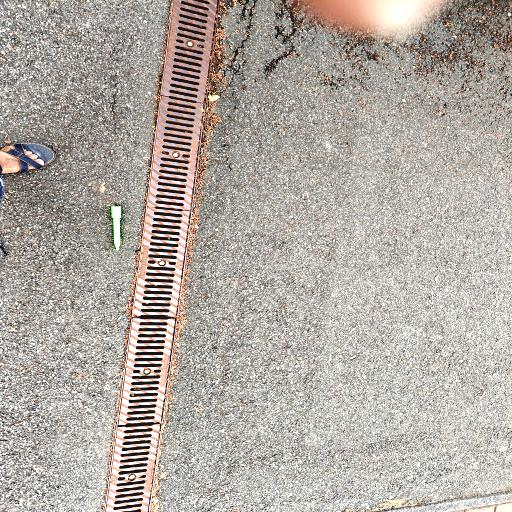Probe-Detection: (111, 206, 121, 251)
